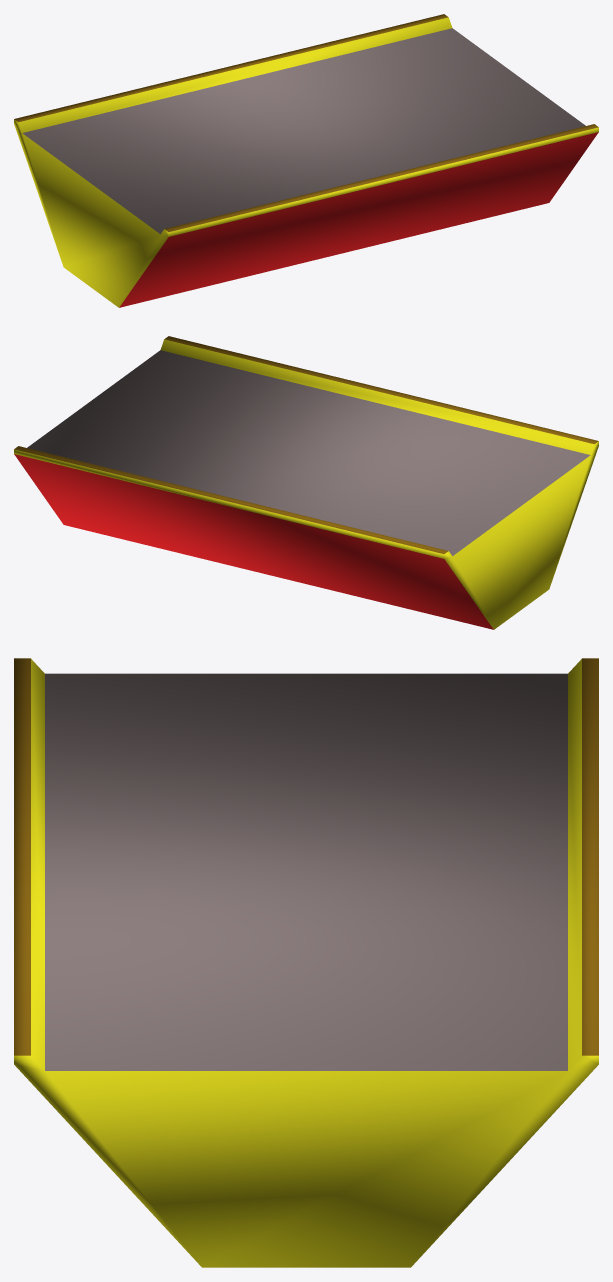
Rendered from grace_fo_low_fidelity_v1.dae.
3 renders of one model, top to bottom at view 1: azimuth 30°, elevation 25°; view 2: azimuth 150°, elevation 25°; view 3: azimuth 270°, elevation 25°, orthographic. The views are drawn at different scales.
Visible parts, largest first — view 1: grace_fo_low_fidelity_v1; view 2: grace_fo_low_fidelity_v1; view 3: grace_fo_low_fidelity_v1.
Part boxes in pixels (box(x1,y1,x2,y2)): grace_fo_low_fidelity_v1: box(14, 14, 598, 307); grace_fo_low_fidelity_v1: box(14, 336, 598, 629); grace_fo_low_fidelity_v1: box(14, 658, 598, 1267).
Size of the model in its own units: 3.12 by 1.94 by 0.777.
